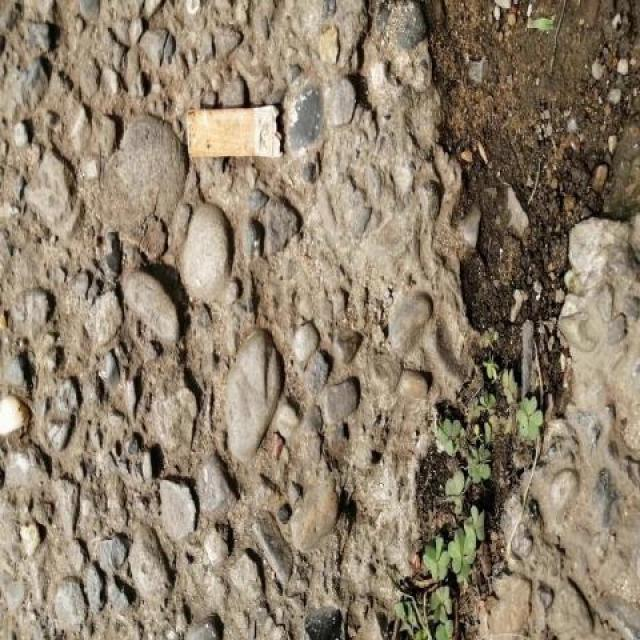non-organic waste: (182, 97, 290, 164)
